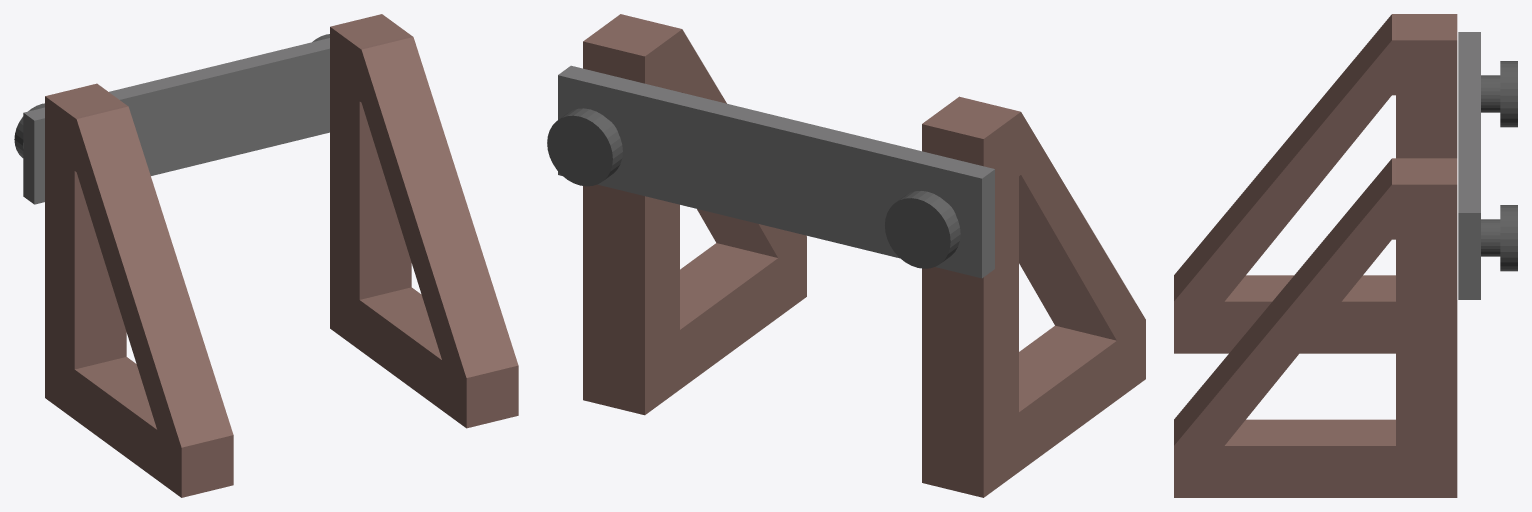
File: Stopper.fbx
3 views of the same model, side by side, from view 1: azimuth 30°, elevation 25°; view 2: azimuth 150°, elevation 25°; view 3: azimuth 270°, elevation 25° (orthographic). The views are drawn at different scales.
Visible parts, largest first — view 1: Cube.007, Cube.009, Cube.008; view 2: Cube.007, Cube.009, Cube.008, Cylinder.012, Cylinder.013; view 3: Cube.009, Cube.007, Cube.008, Cylinder.012, Cylinder.013.
Part boxes in pixels (x1,y1,x2,y2): Cube.007: (45,83,233,497); Cube.009: (330,14,518,428); Cube.008: (23,38,329,204); Cube.007: (922,96,1145,497); Cube.009: (583,14,806,415); Cube.008: (558,65,994,278); Cylinder.012: (547,108,622,186); Cylinder.013: (885,191,960,268); Cube.009: (1174,158,1457,497); Cube.007: (1174,14,1457,353); Cube.008: (1458,32,1480,299); Cylinder.012: (1481,205,1517,271); Cylinder.013: (1481,61,1517,127).
Size of what is drawn, in the model's own units: 988 by 799 by 795.
